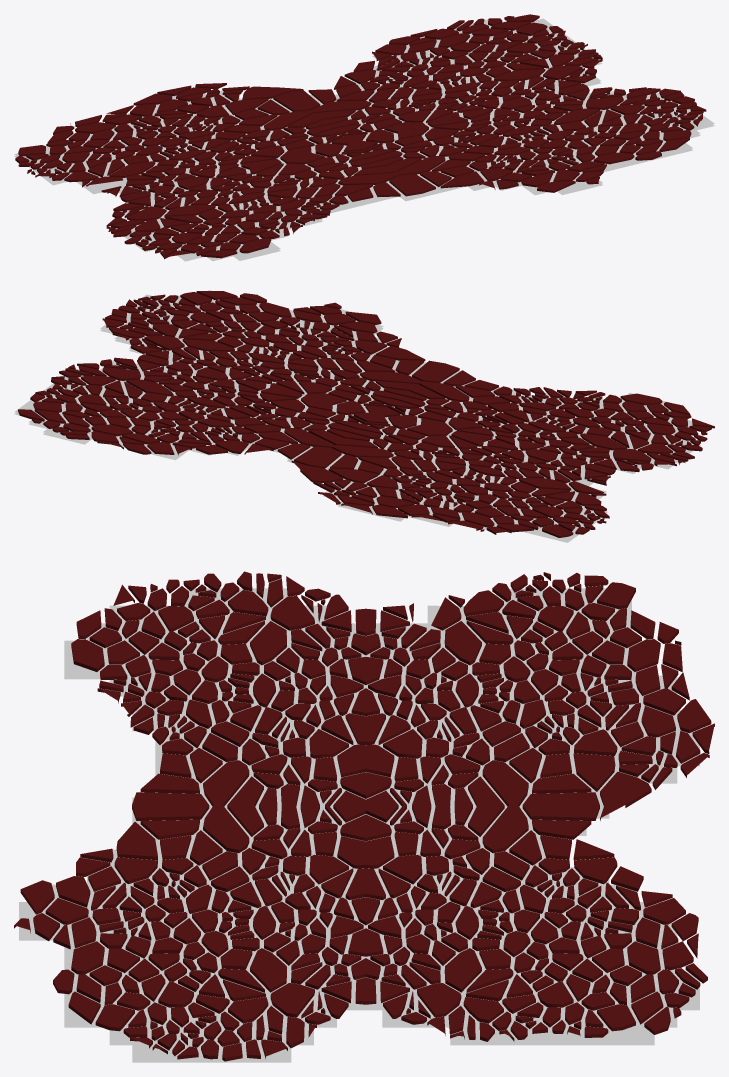
Rendered from lava.fbx.
3 views of the same model, one above another, from view 1: azimuth 30°, elevation 25°; view 2: azimuth 150°, elevation 25°; view 3: azimuth 270°, elevation 25° (orthographic). The views are drawn at different scales.
Visible parts, largest first — view 1: lava_sopra, lava_sotto; view 2: lava_sopra, lava_sotto; view 3: lava_sopra, lava_sotto.
Boxes of the visible parts, x1,y1,x2,y2 form: lava_sopra: [15, 14, 706, 259]; lava_sotto: [14, 18, 714, 261]; lava_sopra: [18, 291, 714, 537]; lava_sotto: [14, 290, 700, 542]; lava_sopra: [14, 571, 714, 1061]; lava_sotto: [19, 588, 699, 1062].
Size of the model in its own units: 526 by 5.38 by 320.
